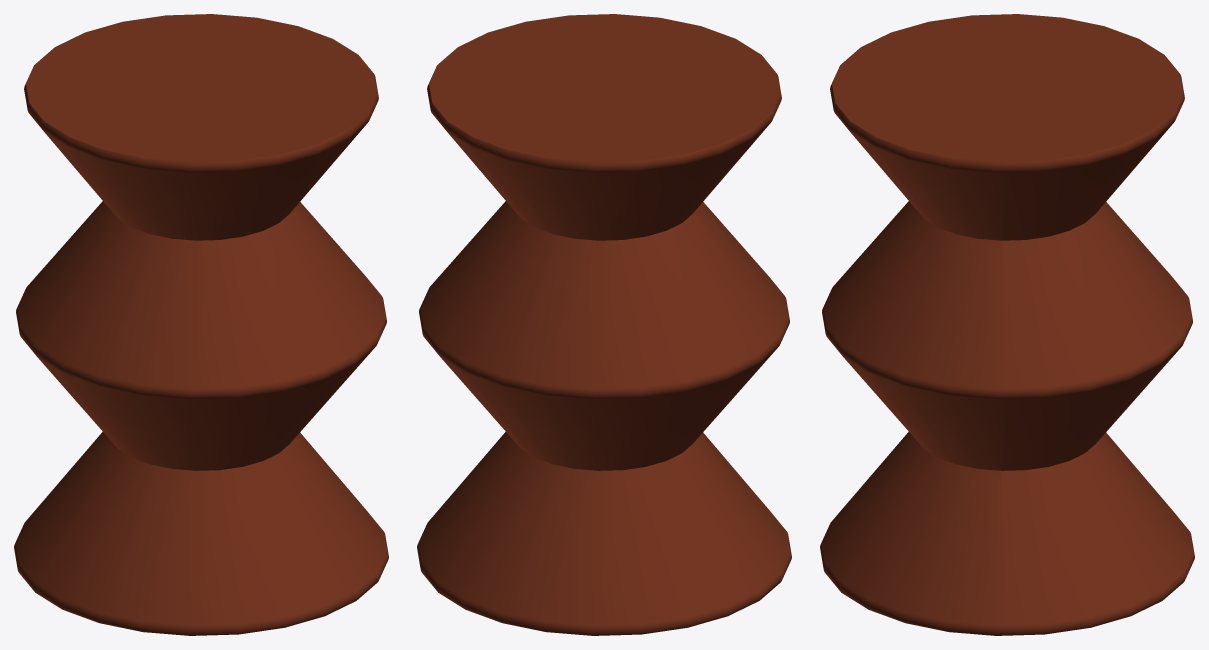
File: CGT_side_table_042.fbx
3 views of the same model, side by side, from view 1: azimuth 30°, elevation 25°; view 2: azimuth 150°, elevation 25°; view 3: azimuth 270°, elevation 25° (orthographic).
Visible parts, largest first — view 1: CGT_side_table_042; view 2: CGT_side_table_042; view 3: CGT_side_table_042.
Part boxes in pixels (box(x1,y1,x2,y2)): CGT_side_table_042: box(14, 14, 388, 635); CGT_side_table_042: box(417, 14, 791, 635); CGT_side_table_042: box(820, 14, 1194, 635).
Size of the model in its own units: 41.24 by 56.98 by 41.24.
